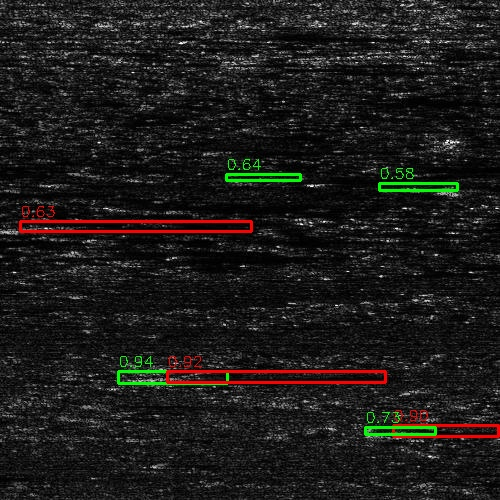rock: (100, 369, 205, 384), (0, 222, 73, 235), (354, 426, 427, 437), (235, 172, 318, 181), (191, 149, 232, 152)
shadow: (153, 369, 381, 384), (6, 222, 173, 235), (277, 172, 500, 181), (391, 426, 500, 437), (0, 323, 64, 336), (212, 149, 358, 152), (0, 189, 35, 196)
